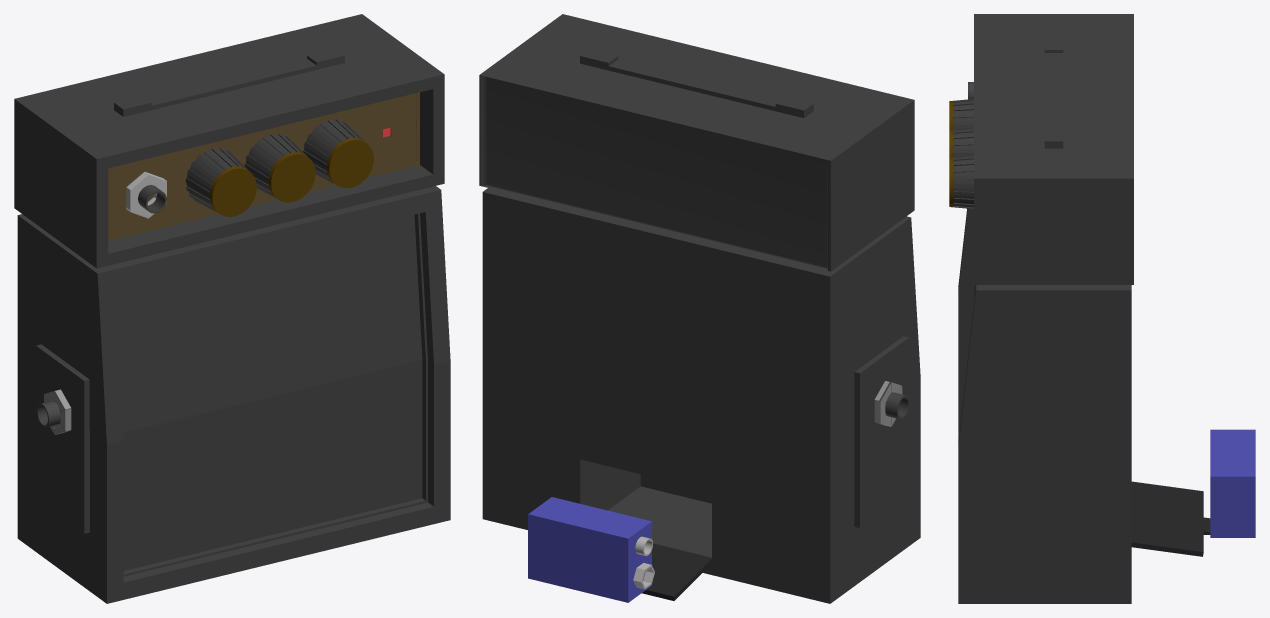
Rendered from objv-battery-guitar-amp-camilote.glb.
3 renders of one model, left to right at view 1: azimuth 30°, elevation 25°; view 2: azimuth 150°, elevation 25°; view 3: azimuth 270°, elevation 25°, orthographic. The views are drawn at different scales.
Parts seen in each view (by area): view 1: Object_14, Object_13, Object_15, Object_7, Object_8, Object_4, Object_3, Object_10, Object_9; view 2: Object_14, Object_16, Object_15, Object_13, Object_11, Object_6, Object_9; view 3: Object_14, Object_16, Object_11, Object_13, Object_4.
Boxes of the visible parts, x1,y1,x2,y2 form: Object_14: [14, 14, 450, 603]; Object_13: [55, 55, 432, 533]; Object_15: [36, 185, 165, 533]; Object_7: [108, 92, 419, 239]; Object_8: [36, 92, 419, 434]; Object_4: [209, 138, 373, 216]; Object_3: [126, 172, 166, 218]; Object_10: [36, 186, 166, 427]; Object_9: [44, 389, 71, 434]; Object_14: [479, 14, 920, 603]; Object_16: [528, 497, 651, 602]; Object_15: [860, 338, 908, 527]; Object_13: [580, 56, 890, 527]; Object_11: [642, 543, 711, 600]; Object_6: [633, 536, 654, 589]; Object_9: [874, 381, 902, 426]; Object_14: [953, 14, 1133, 603]; Object_16: [1210, 429, 1255, 537]; Object_11: [1131, 481, 1210, 556]; Object_13: [953, 50, 1063, 208]; Object_4: [949, 100, 953, 207].
Bounding box in the file's own units: 3.57 × 4.14 × 2.64.
